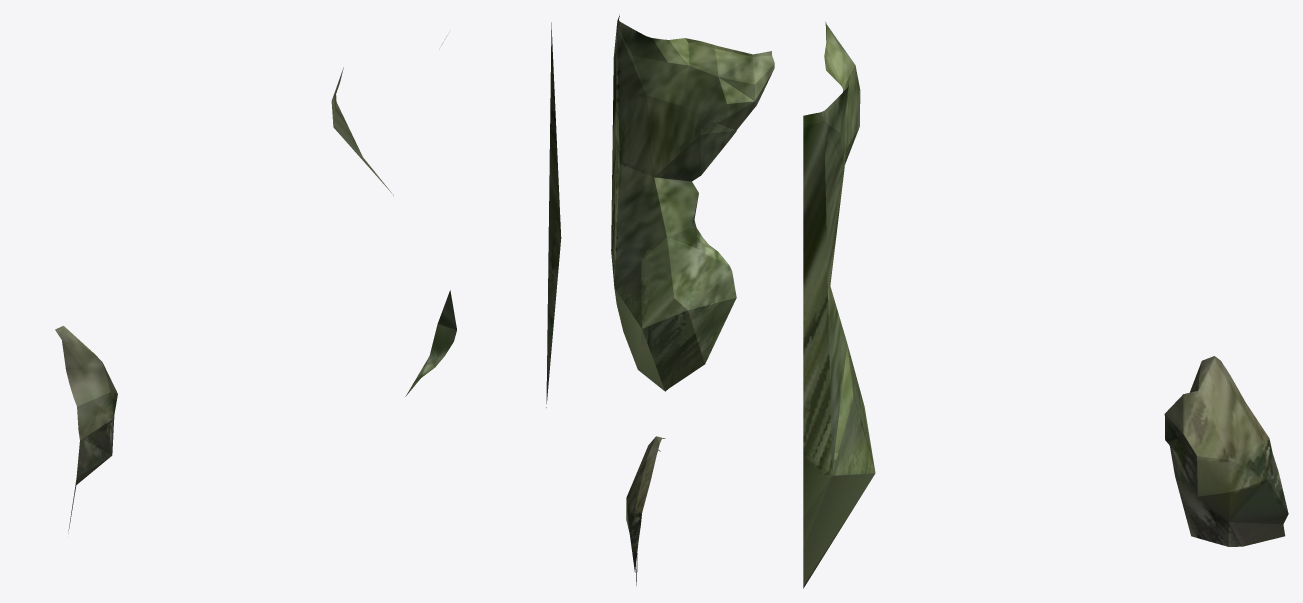
3 renders of one model, left to right at view 1: azimuth 30°, elevation 25°; view 2: azimuth 150°, elevation 25°; view 3: azimuth 270°, elevation 25°, orthographic. The views are drawn at different scales.
Size of the model in its own units: 1.55 by 2.95 by 2.36.
1 material, 1 textured.
